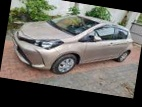car: (8, 5, 138, 85)
